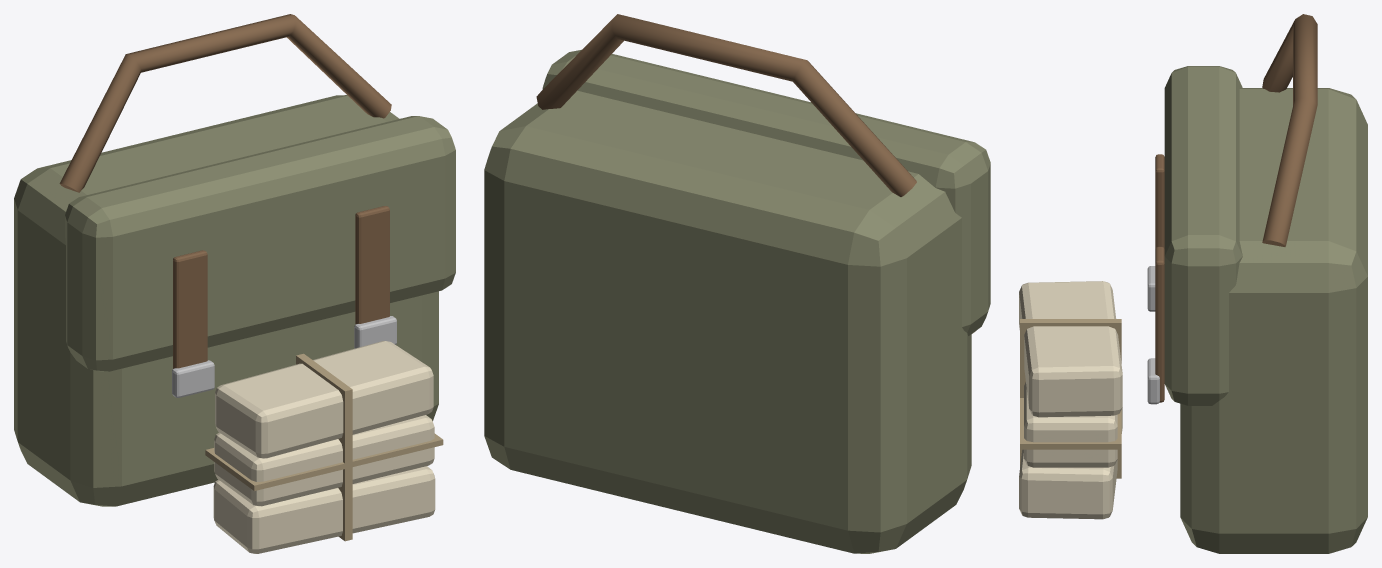
Rendered from Item_supplies.fbx.
3 views of the same model, side by side, from view 1: azimuth 30°, elevation 25°; view 2: azimuth 150°, elevation 25°; view 3: azimuth 270°, elevation 25° (orthographic). The views are drawn at different scales.
Visible parts, largest first — view 1: model.011; view 2: model.011; view 3: model.011.
Boxes of the visible parts, x1=… form: model.011: x1=14, y1=14, x2=455, y2=553; model.011: x1=484, y1=14, x2=990, y2=553; model.011: x1=1019, y1=14, x2=1367, y2=553.
Size of the model in its own units: 0.285 by 0.2972 by 0.2232.
